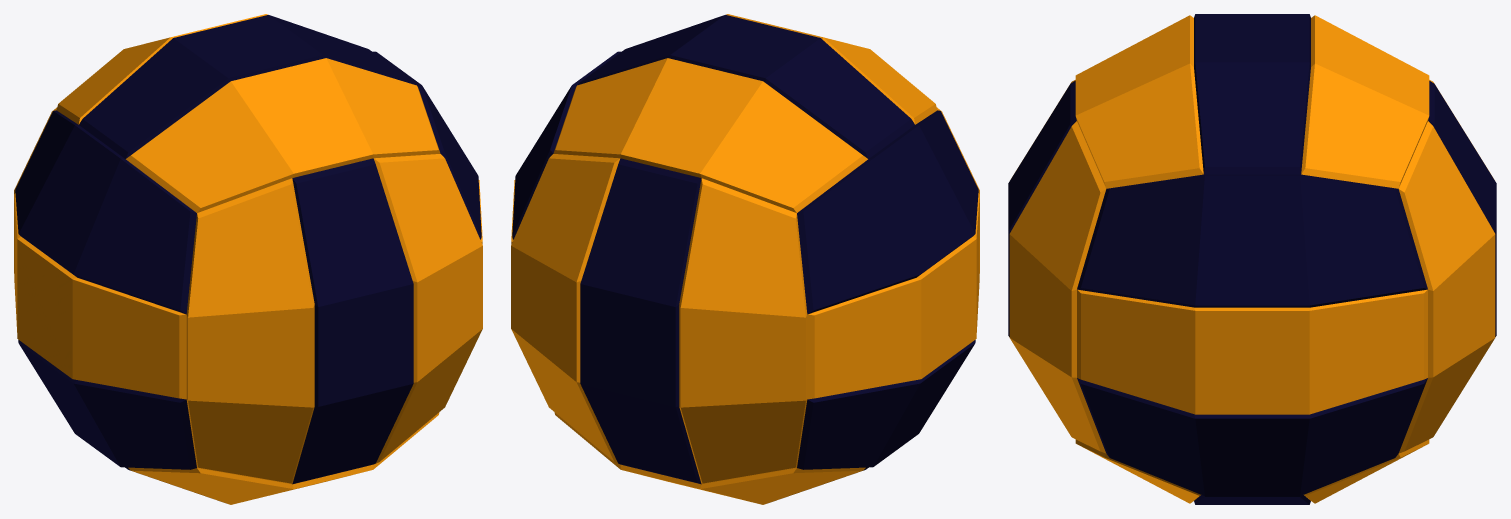
The model's file is Volleyball_01.obj.
The picture shows the model from 3 angles, left to right: view 1: azimuth 30°, elevation 25°; view 2: azimuth 150°, elevation 25°; view 3: azimuth 270°, elevation 25°; orthographic projection. The views are drawn at different scales.
Parts seen in each view (by area): view 1: Volleyball_Roundcube.005; view 2: Volleyball_Roundcube.005; view 3: Volleyball_Roundcube.005.
Boxes of the visible parts, x1,y1,x2,y2 form: Volleyball_Roundcube.005: (14, 14, 482, 504); Volleyball_Roundcube.005: (511, 14, 979, 504); Volleyball_Roundcube.005: (1008, 14, 1496, 504).
Size of the model in its own units: 9.65 by 9.65 by 9.65.
